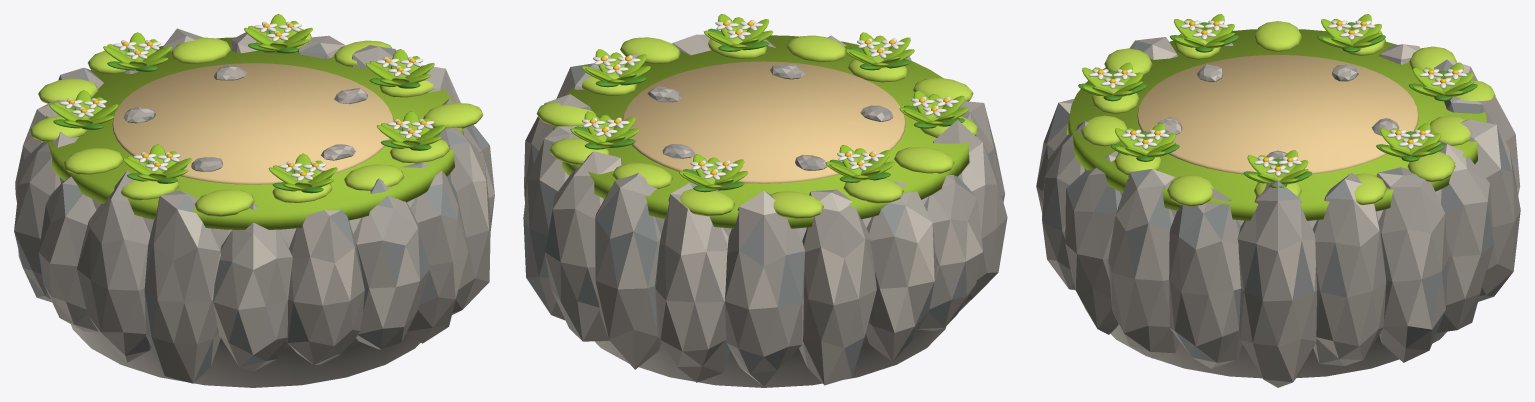
The model's file is island_small.glb.
3 renders of one model, left to right at view 1: azimuth 30°, elevation 25°; view 2: azimuth 150°, elevation 25°; view 3: azimuth 270°, elevation 25°, orthographic.
Parts seen in each view (by area): view 1: island_small; view 2: island_small; view 3: island_small.
Boxes of the visible parts, x1,y1,x2,y2 form: island_small: (14,14,494,387); island_small: (523,14,1007,387); island_small: (1036,14,1520,387).
Size of the model in its own units: 3.63 by 1.78 by 3.61.
